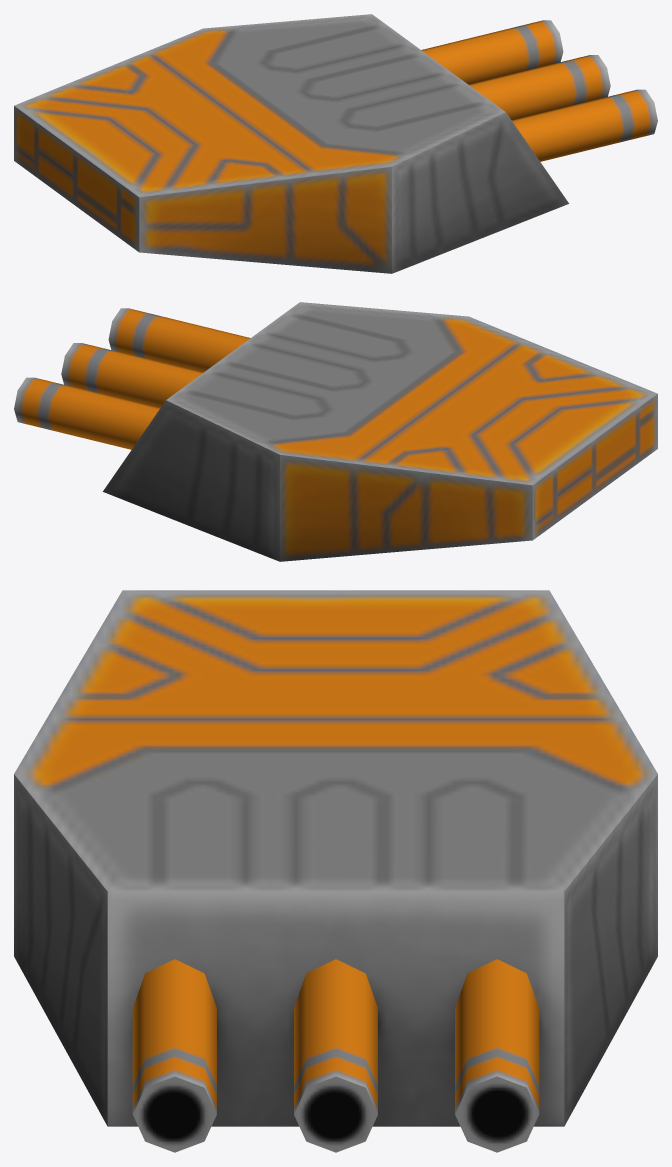
File: TurretCannon.dae
3 views of the same model, one above another, from view 1: azimuth 30°, elevation 25°; view 2: azimuth 150°, elevation 25°; view 3: azimuth 270°, elevation 25° (orthographic). The views are drawn at different scales.
Parts seen in each view (by area): view 1: TurretCannon; view 2: TurretCannon; view 3: TurretCannon.
Boxes of the visible parts, bbox=[...] form: TurretCannon: bbox=[14, 14, 657, 273]; TurretCannon: bbox=[14, 302, 657, 561]; TurretCannon: bbox=[14, 590, 657, 1152].
Bounding box in the file's own units: 1.66 × 0.325 × 1.04.
